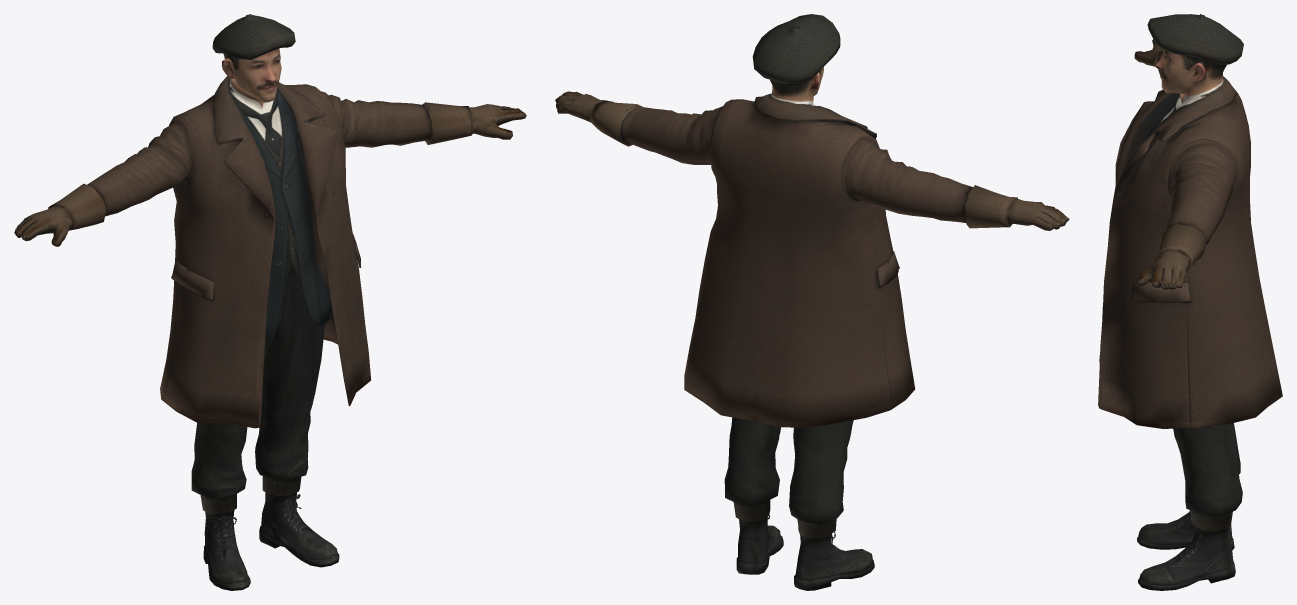
File: carriage-driver-for-mixamo.fbx
The picture shows the model from 3 angles, left to right: view 1: azimuth 30°, elevation 25°; view 2: azimuth 150°, elevation 25°; view 3: azimuth 270°, elevation 25°; orthographic projection.
Parts seen in each view (by area): view 1: tripo_node_48897c18-af12-4bab-84ac-aee6b1678d61; view 2: tripo_node_48897c18-af12-4bab-84ac-aee6b1678d61; view 3: tripo_node_48897c18-af12-4bab-84ac-aee6b1678d61.
Part boxes in pixels (x1,y1,x2,y2): tripo_node_48897c18-af12-4bab-84ac-aee6b1678d61: (14, 14, 526, 590); tripo_node_48897c18-af12-4bab-84ac-aee6b1678d61: (555, 14, 1069, 590); tripo_node_48897c18-af12-4bab-84ac-aee6b1678d61: (1098, 14, 1282, 590).
Bounding box in the file's own units: 97.85 × 99.8 × 30.66.
1 material, 1 textured.
